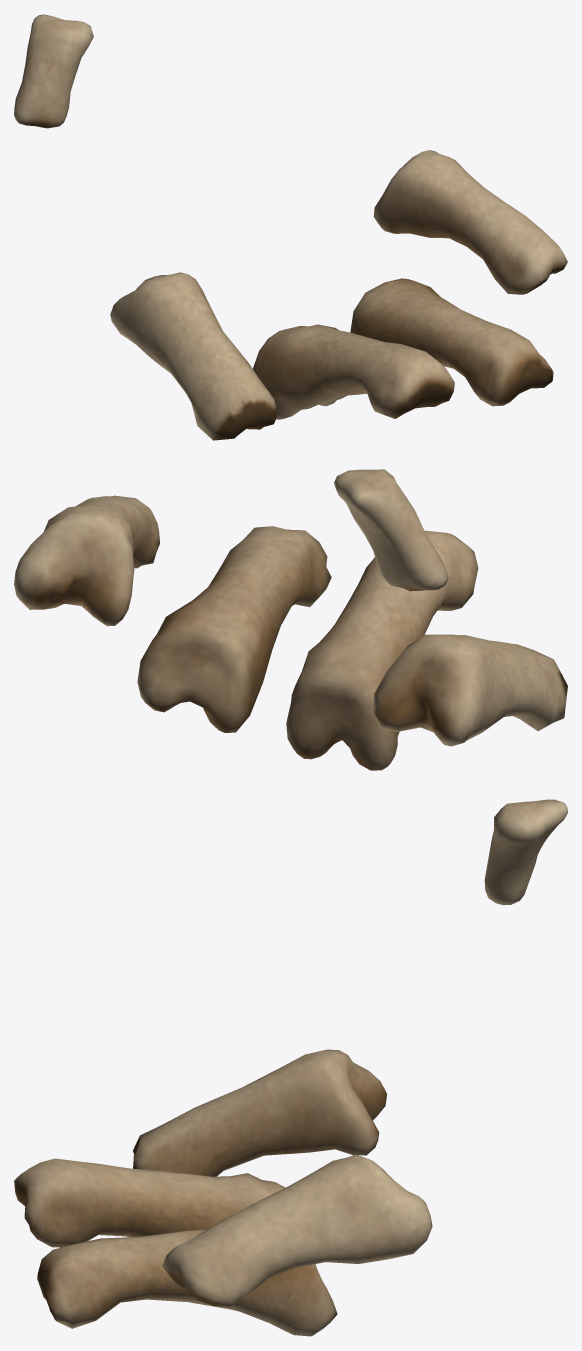
File: Proximal Phalanges.glb
3 renders of one model, top to bottom at view 1: azimuth 30°, elevation 25°; view 2: azimuth 150°, elevation 25°; view 3: azimuth 270°, elevation 25°, orthographic. The views are drawn at different scales.
Visible parts, largest first — view 1: polySurface2, polySurface5, polySurface3, polySurface4, polySurface1; view 2: polySurface4, polySurface3, polySurface2, polySurface5, polySurface1; view 3: polySurface5, polySurface2, polySurface3, polySurface4, polySurface1.
Part boxes in pixels (x1,y1,x2,y2): polySurface2: (110, 272, 276, 440); polySurface5: (373, 150, 567, 294); polySurface3: (253, 324, 454, 419); polySurface4: (350, 278, 553, 406); polySurface1: (14, 14, 93, 128); polySurface4: (137, 526, 331, 732); polySurface3: (286, 530, 478, 770); polySurface2: (373, 634, 567, 746); polySurface5: (14, 495, 159, 626); polySurface1: (334, 469, 448, 591); polySurface5: (162, 1154, 432, 1306); polySurface2: (133, 1049, 386, 1176); polySurface3: (14, 1158, 285, 1247); polySurface4: (37, 1229, 337, 1336); polySurface1: (484, 799, 567, 905).
Bounding box in the file's own units: 48.44 × 37.08 × 45.72.
1 material, 1 textured.
